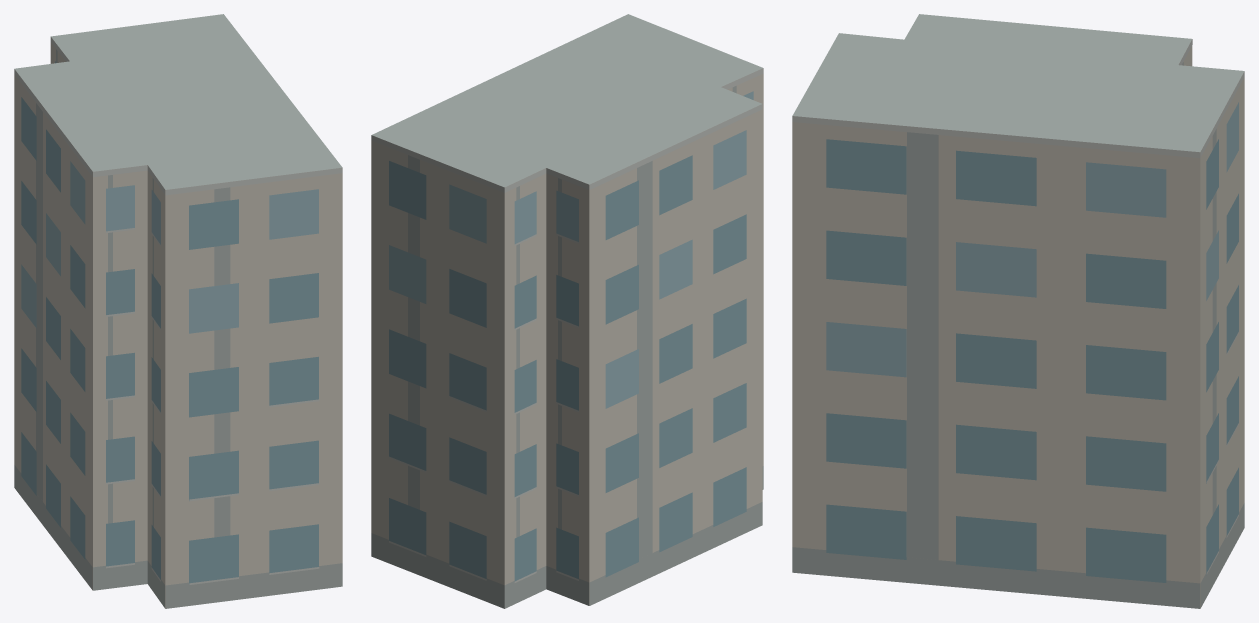
The model's file is survey-upis-32825732.glb.
3 views of the same model, side by side, from view 1: azimuth 30°, elevation 25°; view 2: azimuth 150°, elevation 25°; view 3: azimuth 270°, elevation 25° (orthographic). The views are drawn at different scales.
Parts seen in each view (by area): view 1: survey-upis-32825732.tmp; view 2: survey-upis-32825732.tmp; view 3: survey-upis-32825732.tmp.
Part boxes in pixels (box(x1,y1,x2,y2)): survey-upis-32825732.tmp: box(14, 14, 342, 608); survey-upis-32825732.tmp: box(371, 14, 763, 608); survey-upis-32825732.tmp: box(792, 14, 1244, 608).
Size of the model in its own units: 12.08 by 18.6 by 16.71.
